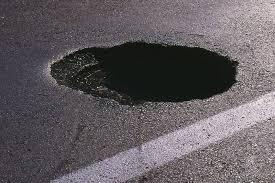pothole: (48, 33, 246, 106)
